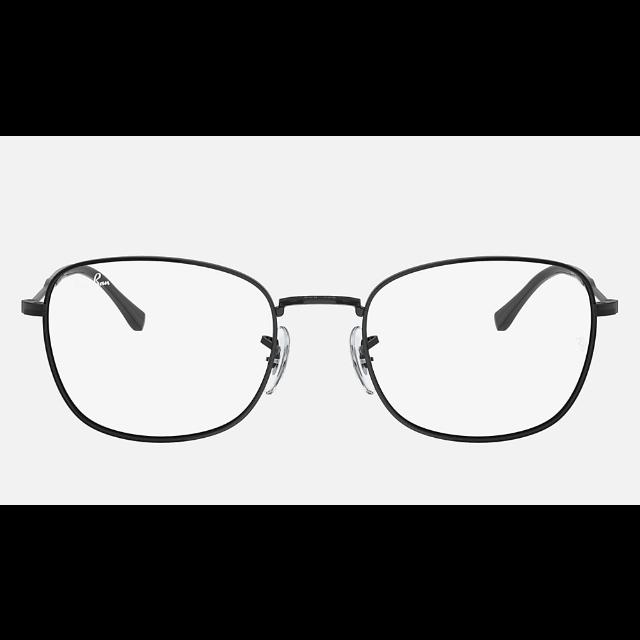glasses: (21, 254, 618, 442)
